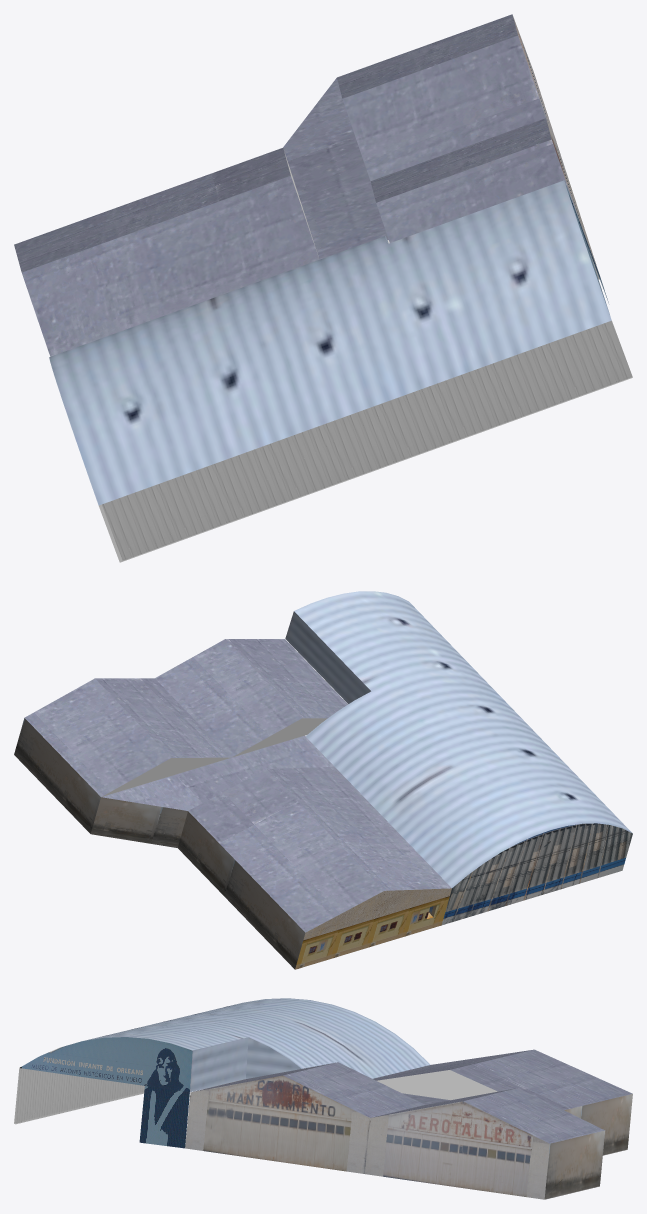
Rendered from Lecu_fio_test.gltf.
3 views of the same model, one above another, from view 1: azimuth 30°, elevation 25°; view 2: azimuth 150°, elevation 25°; view 3: azimuth 270°, elevation 25° (orthographic). The views are drawn at different scales.
Parts seen in each view (by area): view 1: fio.001; view 2: fio.001; view 3: fio.001.
Part boxes in pixels (bbox=[...]): fio.001: bbox=[14, 14, 632, 562]; fio.001: bbox=[14, 591, 632, 969]; fio.001: bbox=[14, 998, 632, 1199].
Size of the model in its own units: 61.59 by 24.09 by 61.09.
